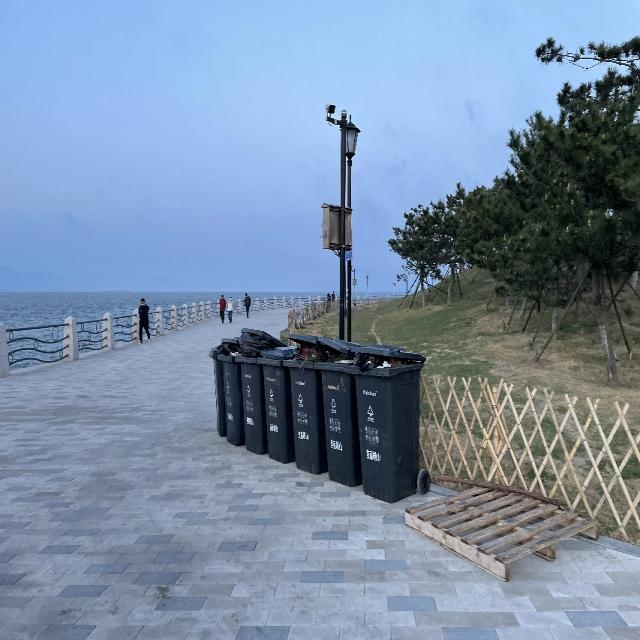garbage_bin: (255, 345, 294, 463)
overflow: (346, 342, 426, 502), (314, 337, 362, 487), (235, 326, 287, 454), (282, 333, 327, 473), (208, 338, 244, 446)
